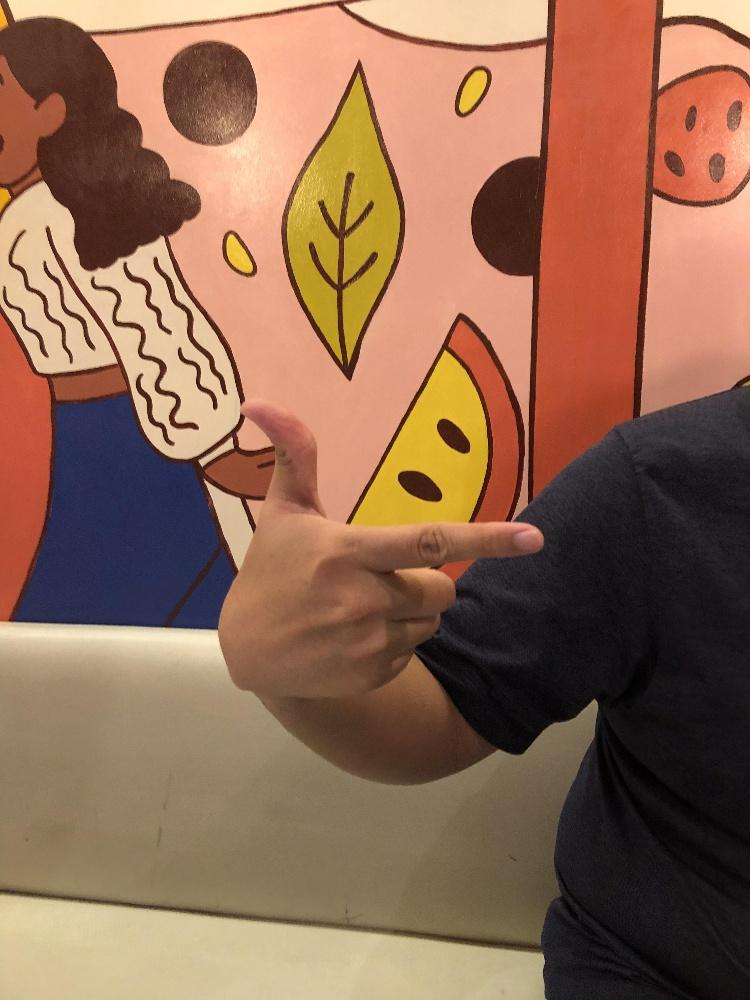g: (217, 393, 543, 702)
